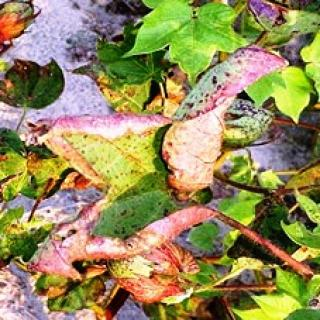wilt: (42, 59, 288, 191), (27, 206, 218, 306)
